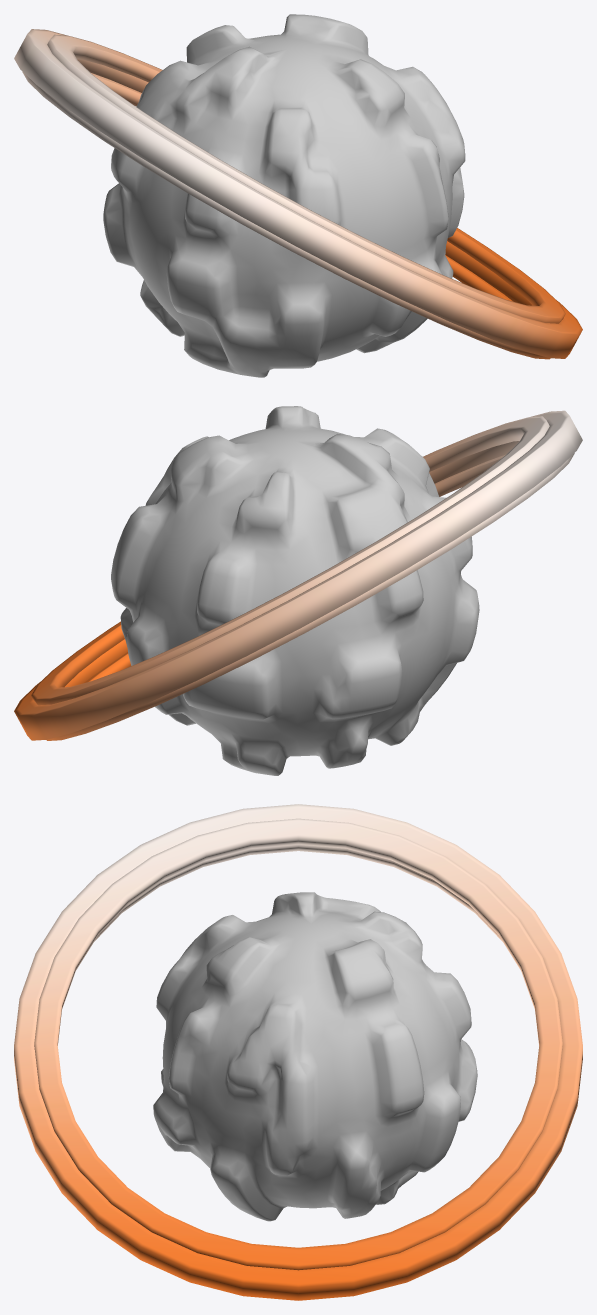
File: Planet_V12.fbx
The picture shows the model from 3 angles, top to bottom: view 1: azimuth 30°, elevation 25°; view 2: azimuth 150°, elevation 25°; view 3: azimuth 270°, elevation 25°; orthographic projection. The views are drawn at different scales.
Parts seen in each view (by area): view 1: Planet_V12; view 2: Planet_V12; view 3: Planet_V12.
Part boxes in pixels (<box>): Planet_V12: <box>14,14,582,377</box>; Planet_V12: <box>14,406,582,775</box>; Planet_V12: <box>14,804,582,1300</box>.
Size of the model in its own units: 2033 by 1379 by 2360.
